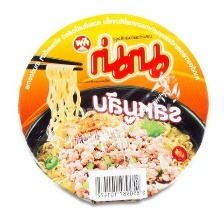paper_cup: (12, 7, 214, 209)
